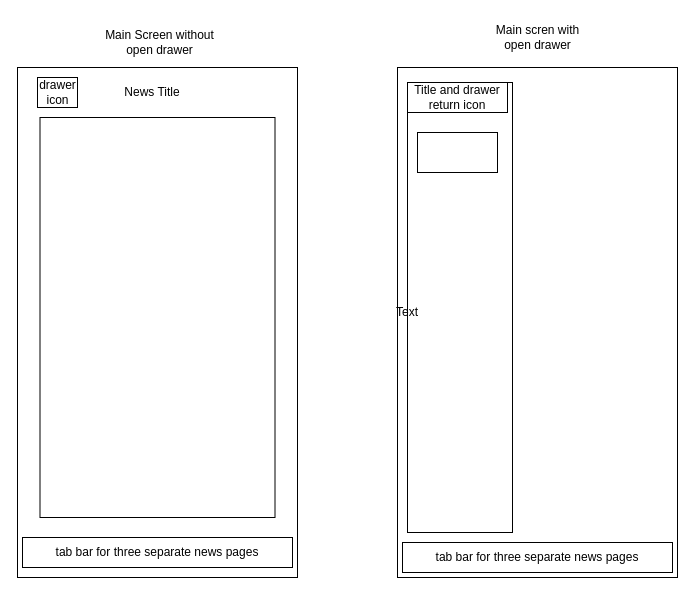
This 695x595 diagram has some shape labels left out. Here are the shapes that lost their labels. From the top down, the box of each, then its label:
(416, 132, 498, 172): Bookmarked items tab icon
(39, 116, 275, 518): Flatlist holding news related to current tab
